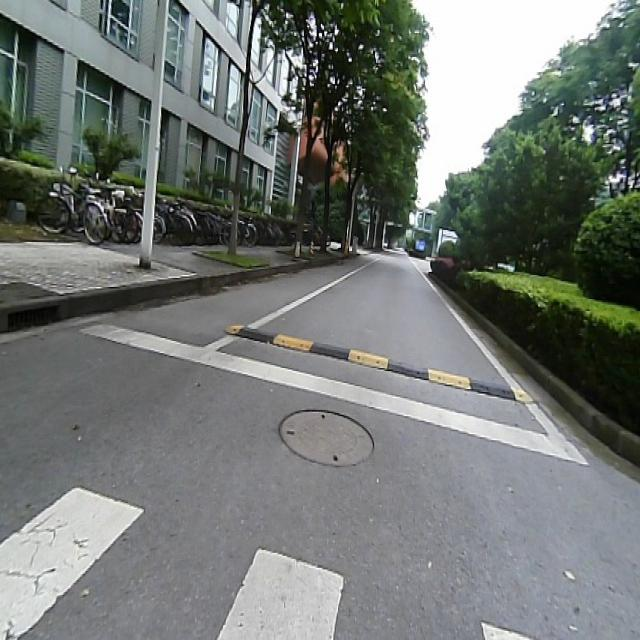Speed Bump: (222, 318, 535, 406)
